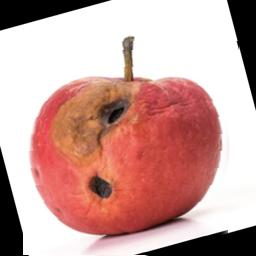Apple Rotten: (24, 41, 240, 255)
